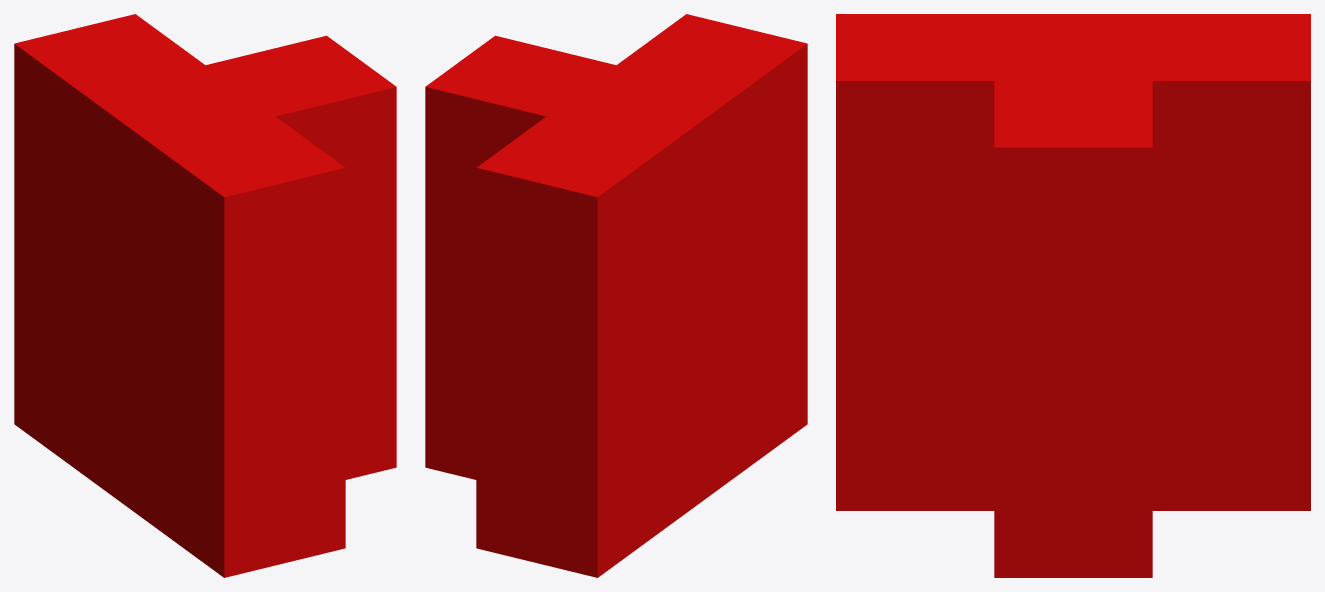
File: wall_T_5.fbx
The picture shows the model from 3 angles, left to right: view 1: azimuth 30°, elevation 25°; view 2: azimuth 150°, elevation 25°; view 3: azimuth 270°, elevation 25°; orthographic projection. The views are drawn at different scales.
Visible parts, largest first — view 1: wall_T_5; view 2: wall_T_5; view 3: wall_T_5.
Part boxes in pixels (box(x1,y1,x2,y2)): wall_T_5: box(14, 14, 396, 577); wall_T_5: box(425, 14, 807, 577); wall_T_5: box(836, 14, 1310, 577).
Size of the model in its own units: 2 by 3 by 3.
